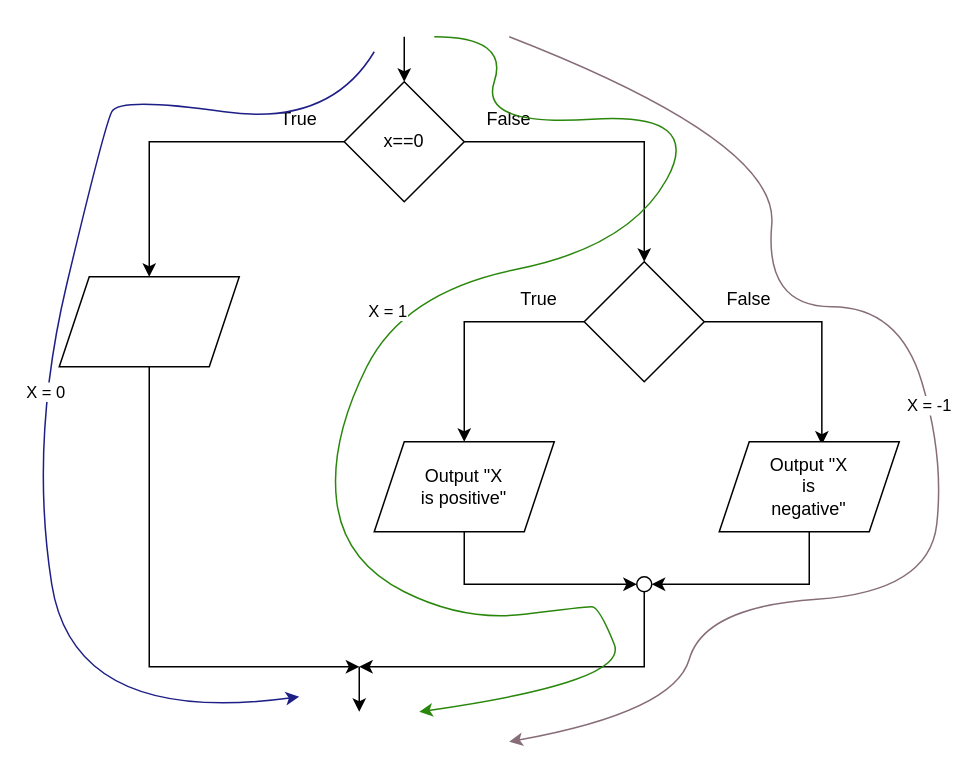
This 977x771 diagram has some shape labels left out. The shapes that lost their labels are listed below. From the top down, each one's box as (x1, y1, x2, y2) in pixels, then its label:
(58, 275, 239, 367): Output "X is zero"
(583, 260, 704, 382): x > 0
